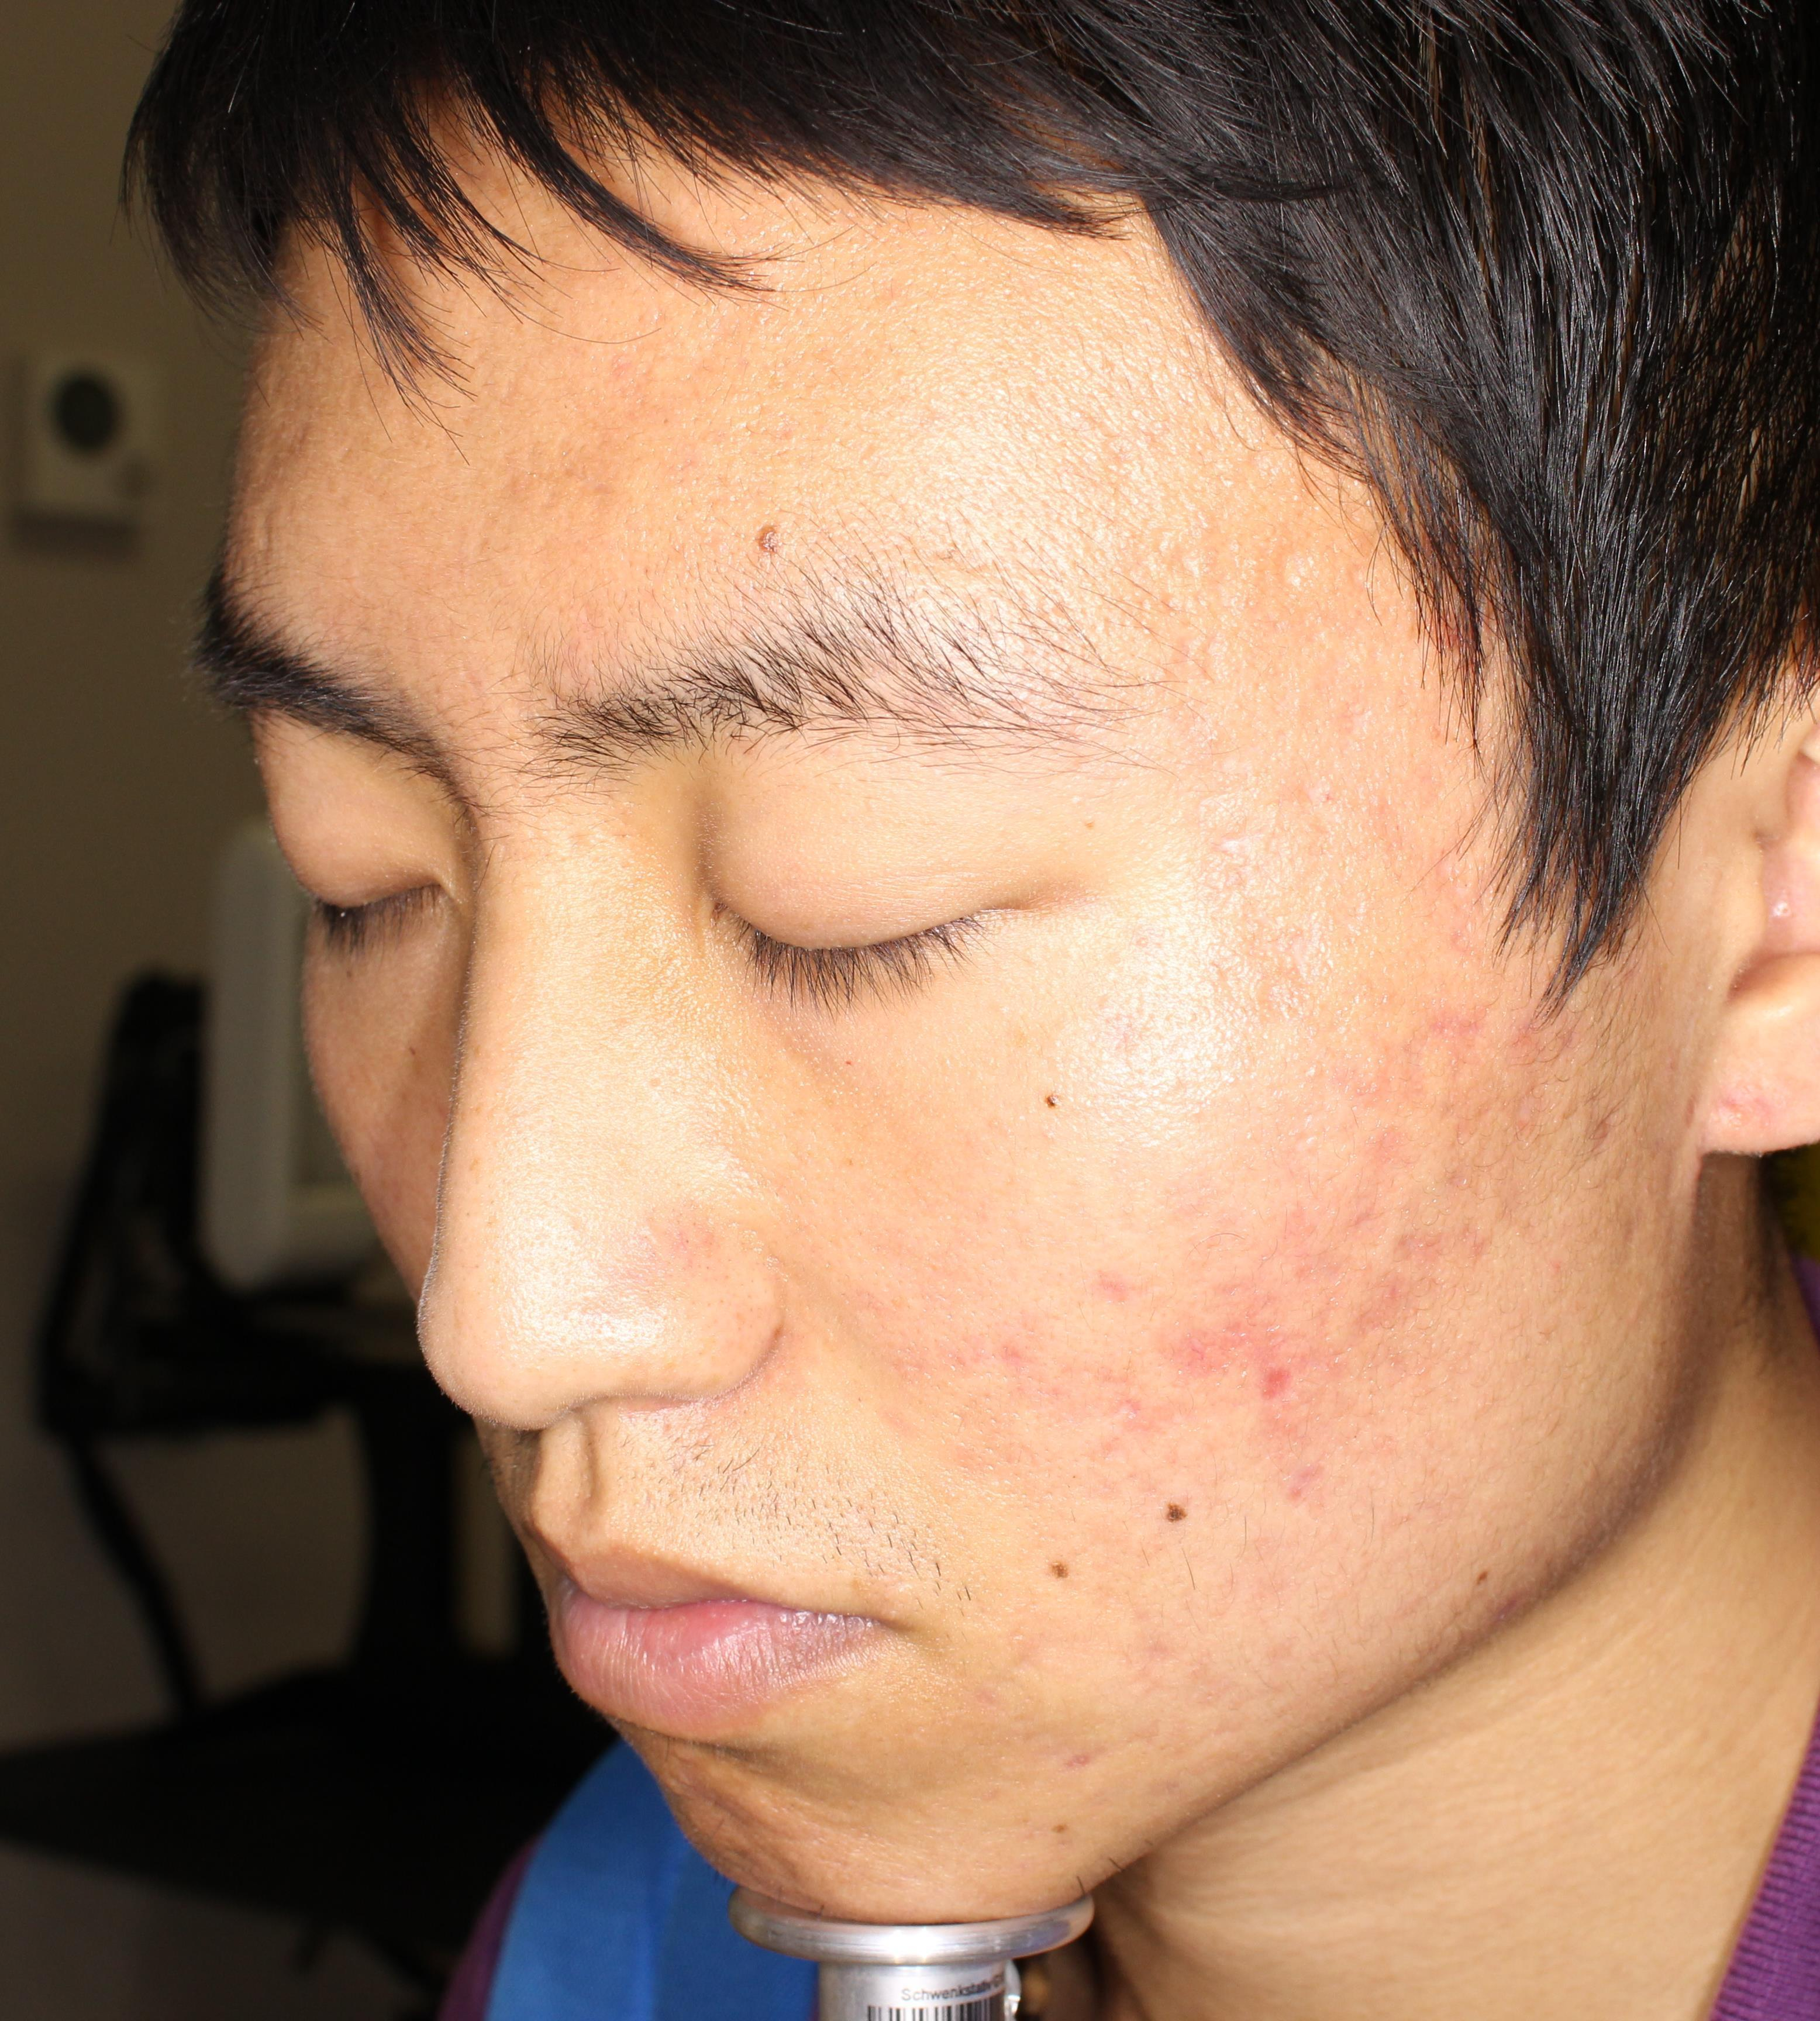fore: (1224, 1294, 1309, 1442), (982, 1298, 1051, 1410), (1144, 1312, 1228, 1401), (1054, 1240, 1135, 1326), (1349, 1266, 1421, 1352), (713, 1805, 791, 1881)
